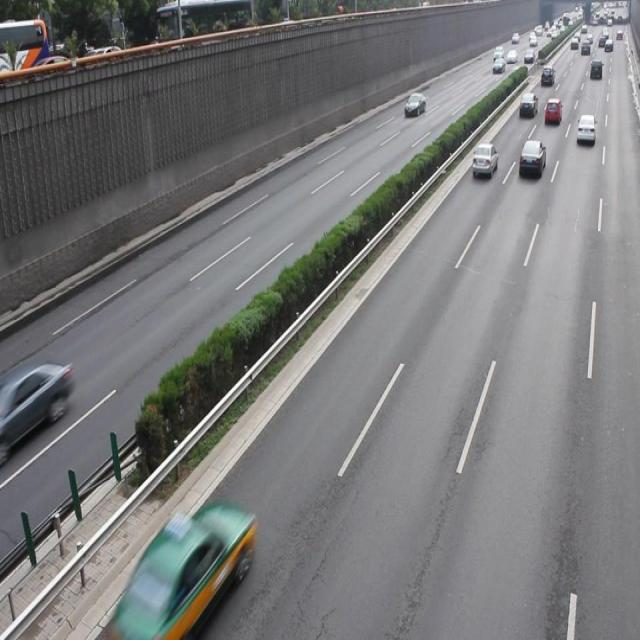car: (120, 499, 254, 640), (1, 358, 74, 455), (517, 139, 546, 180), (472, 143, 498, 179)
